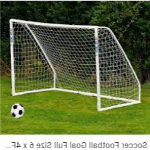goals: (8, 18, 142, 111)
